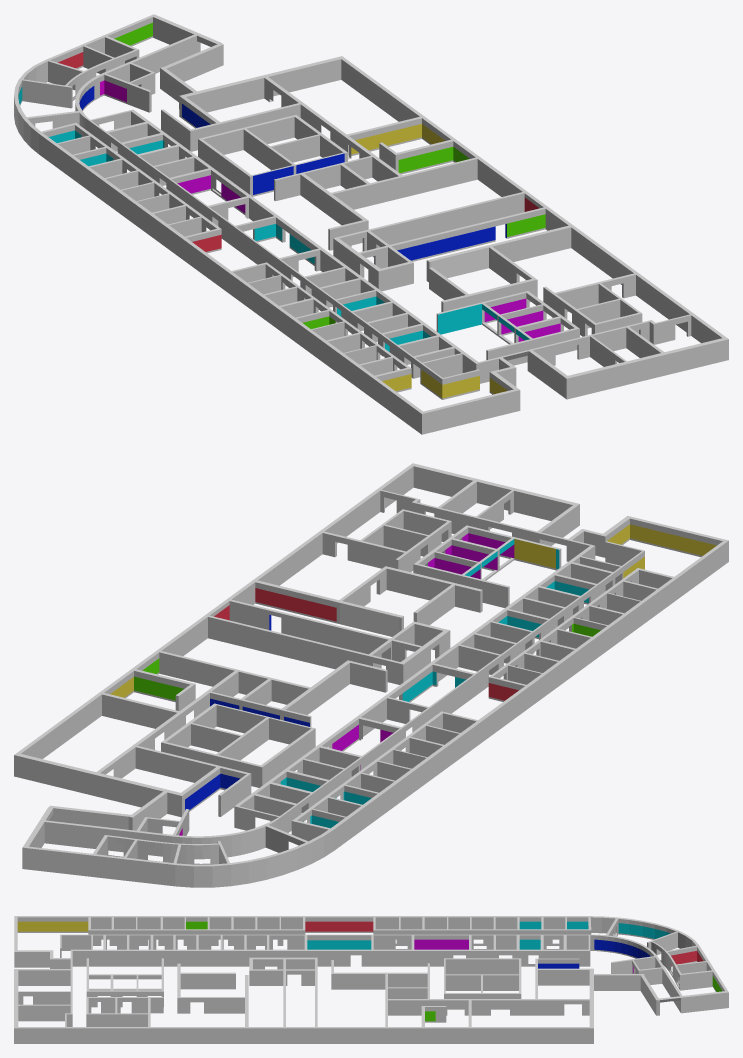
The model's file is Labaratorium4.fbx.
3 renders of one model, top to bottom at view 1: azimuth 30°, elevation 25°; view 2: azimuth 150°, elevation 25°; view 3: azimuth 270°, elevation 25°, orthographic. The views are drawn at different scales.
Visible parts, largest first — view 1: labLevel4; view 2: labLevel4; view 3: labLevel4.
Boxes of the visible parts, x1,y1,x2,y2 form: labLevel4: (14, 14, 728, 434); labLevel4: (14, 463, 728, 887); labLevel4: (14, 916, 728, 1043).
Size of the model in its own units: 53.84 by 3.56 by 145.
